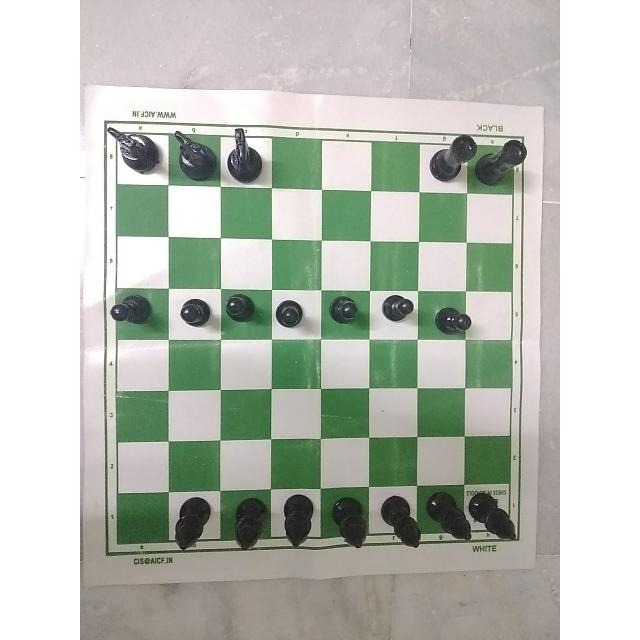black-bishop: (272, 488, 324, 561), (163, 491, 221, 555), (424, 485, 470, 563), (471, 487, 525, 551), (328, 481, 371, 554), (225, 490, 267, 559), (382, 490, 423, 554)
black-knight: (105, 119, 163, 177), (169, 122, 219, 178), (223, 124, 263, 183)
black-pawn: (109, 286, 167, 342), (375, 279, 421, 334), (432, 294, 476, 348), (173, 284, 219, 332), (221, 286, 260, 333), (267, 287, 309, 330), (325, 286, 365, 329)
black-rook: (482, 124, 530, 196), (428, 124, 478, 188)
